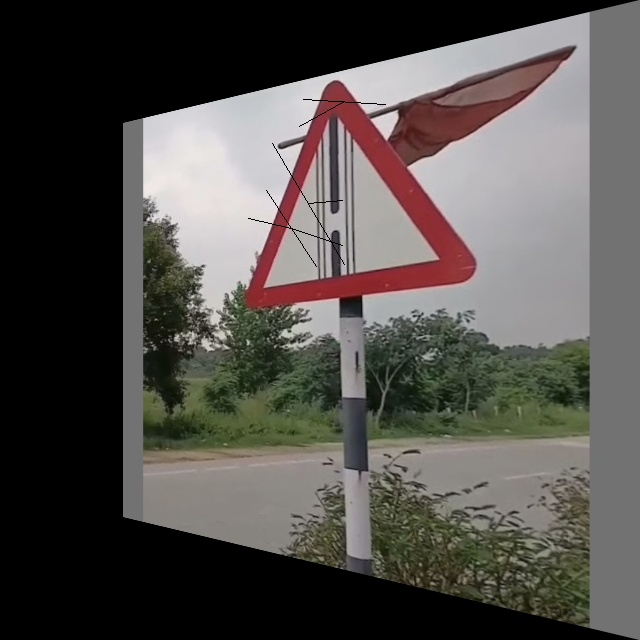Gap_in_Median: (248, 57, 474, 300)
